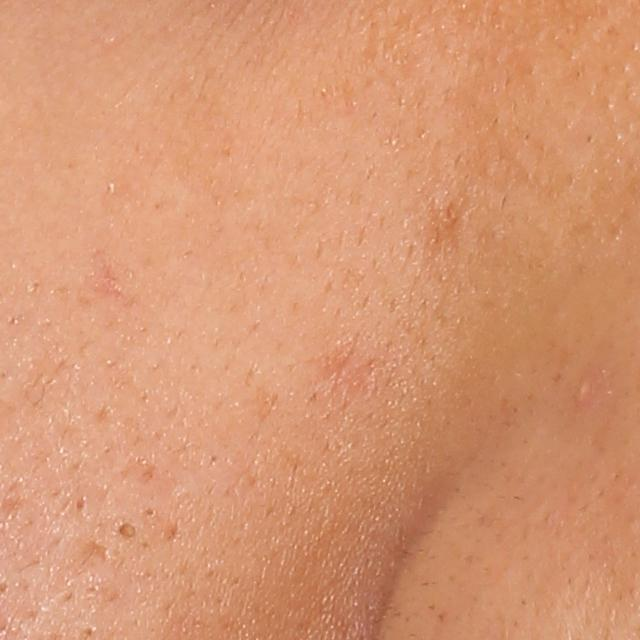atrophic_scar: (78, 538, 109, 566)
comedo: (113, 518, 140, 545), (72, 493, 94, 515), (83, 623, 100, 640), (145, 505, 156, 520)
